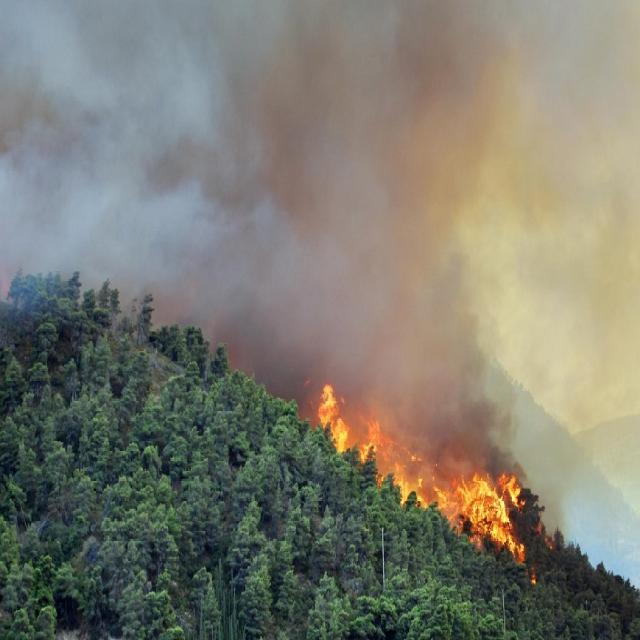Fire: (435, 473, 539, 563), (360, 418, 436, 505), (318, 384, 349, 452)
Smoke: (2, 0, 640, 382), (438, 384, 578, 472)
